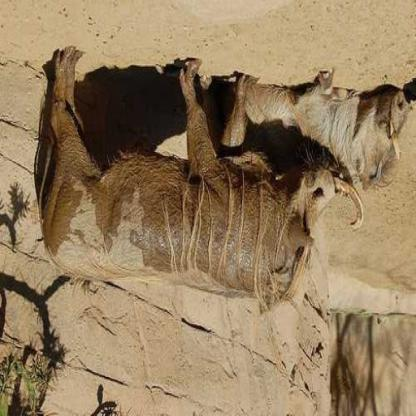boar: (18, 62, 330, 322), (285, 62, 415, 191)
